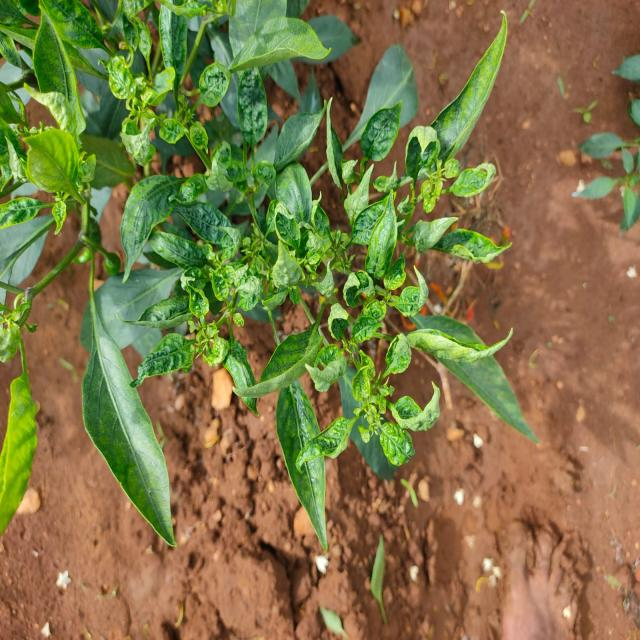Moko: (259, 139, 423, 464), (94, 0, 259, 190), (0, 0, 122, 224), (138, 200, 261, 418), (388, 46, 502, 274), (0, 333, 58, 501)
